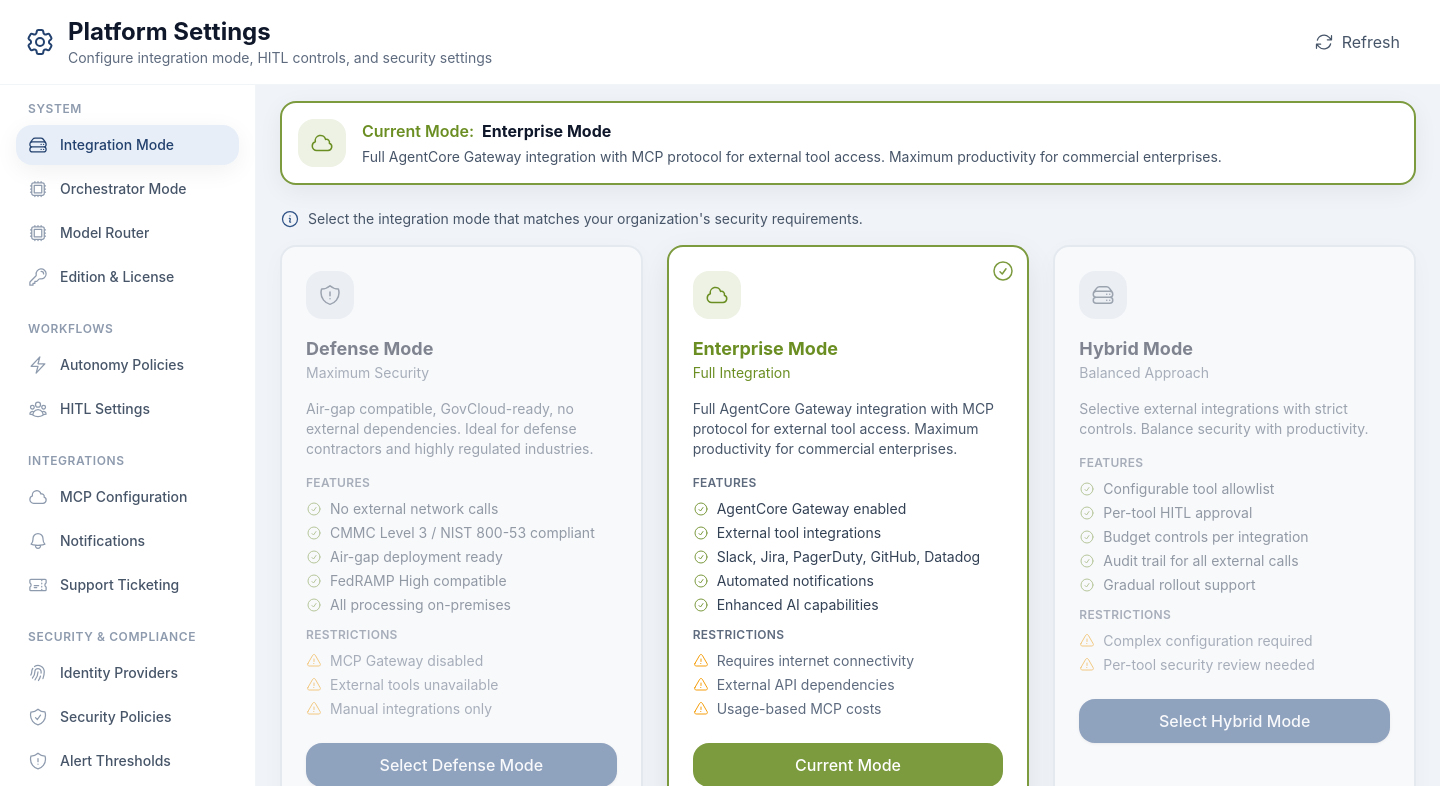
Test: SettingsPage › shows MCP configuration when tab is selected
Expected: the text "MCP Configuration" is shown, x1=60 y1=487 x2=187 y2=507
Click the button "MCP Configuration" at (128, 497), box x1=16 y1=477 x2=239 y2=517
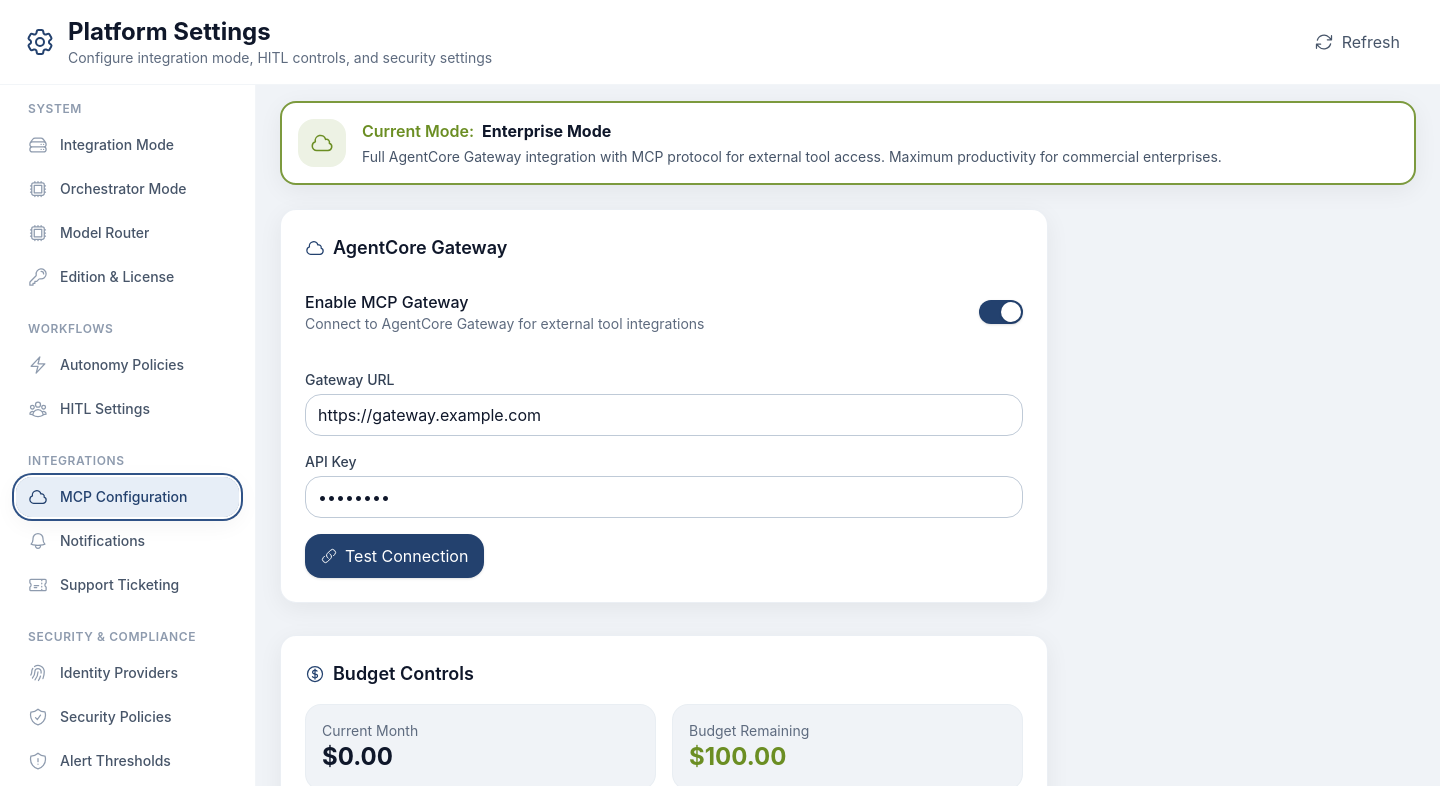
Expected: the heading "AgentCore Gateway" is shown, x1=305 y1=237 x2=507 y2=258
